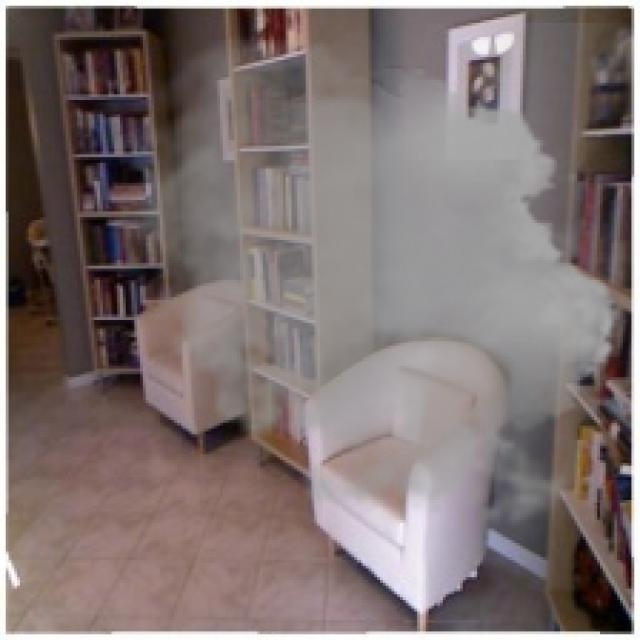Smoke: (94, 23, 632, 543)
